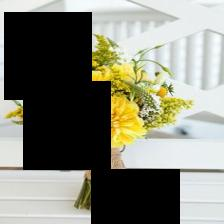yellow: (62, 95, 148, 149), (70, 71, 103, 96)
